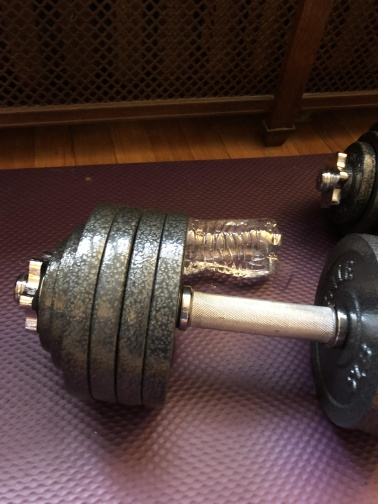bottle: (85, 213, 285, 283)
